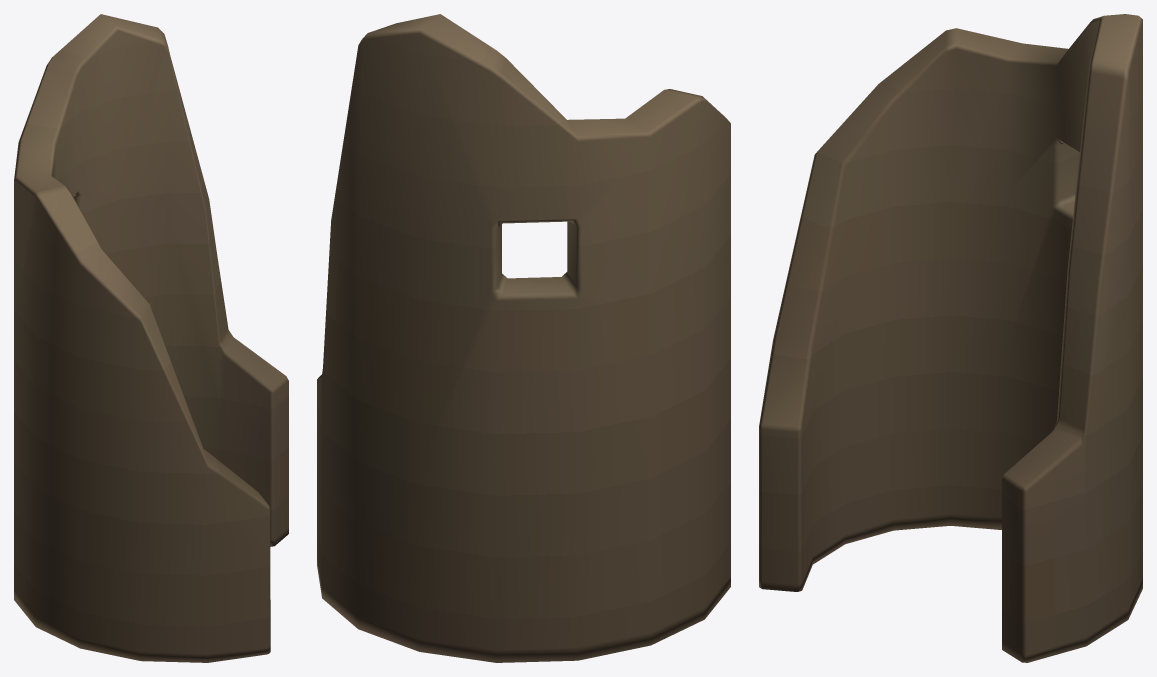
The model's file is model_ruin_01.fbx.
3 renders of one model, left to right at view 1: azimuth 30°, elevation 25°; view 2: azimuth 150°, elevation 25°; view 3: azimuth 270°, elevation 25°, orthographic. The views are drawn at different scales.
Visible parts, largest first — view 1: pCylinder1; view 2: pCylinder1; view 3: pCylinder1.
Part boxes in pixels (x1=…): pCylinder1: x1=14, y1=14, x2=288, y2=662; pCylinder1: x1=317, y1=14, x2=730, y2=662; pCylinder1: x1=759, y1=14, x2=1142, y2=662.
Size of the model in its own units: 47.24 by 81.21 by 49.3.
